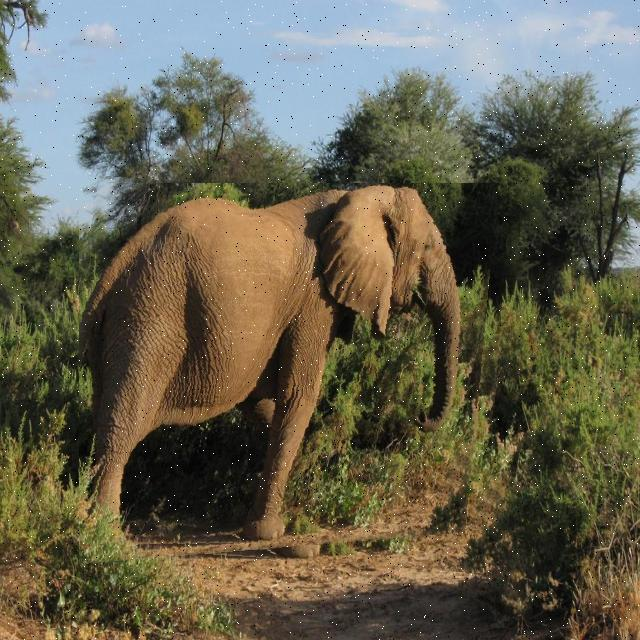elephant: (79, 183, 502, 567)
